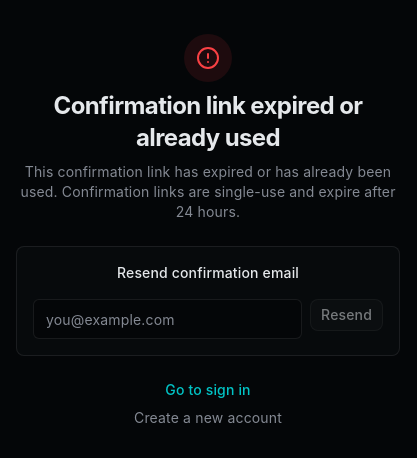
Test: AuthErrorPage › sends resend confirmation email
This screenshot has width=417, height=458.
Type "user@test.com" into the field with placeholder "you@example.com" at (168, 319), box [33, 299, 302, 339]
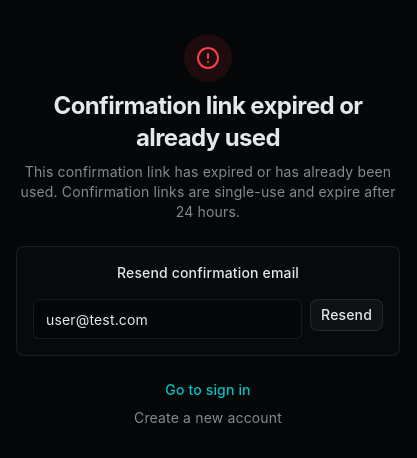
Click the button "Resend" at (347, 315), box [310, 299, 383, 331]
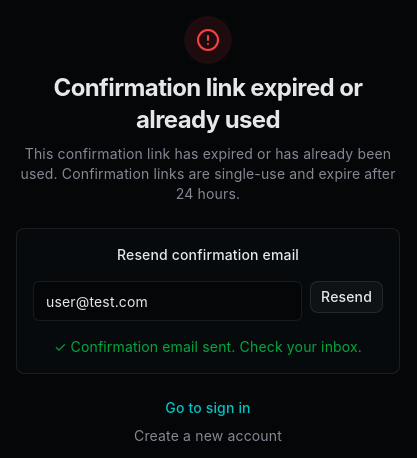
expect the text "✓ Confirmation email sent. Check your inbox." is shown: met, box [33, 337, 383, 357]
